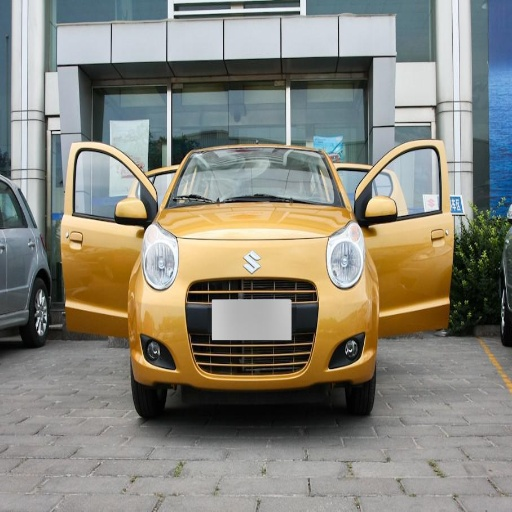front_bumper: (141, 239, 374, 391)
front_glass: (168, 148, 342, 208)
front_left_light: (328, 236, 364, 287)
front_right_door: (93, 147, 157, 237)
hood: (170, 204, 346, 239)
